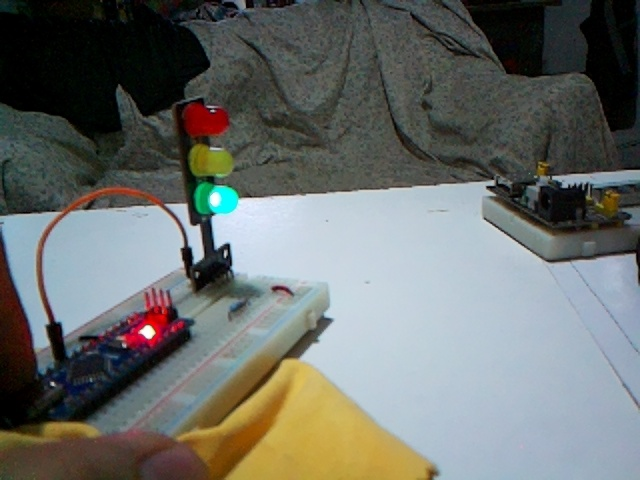traffic_light_green: (176, 99, 239, 290)
